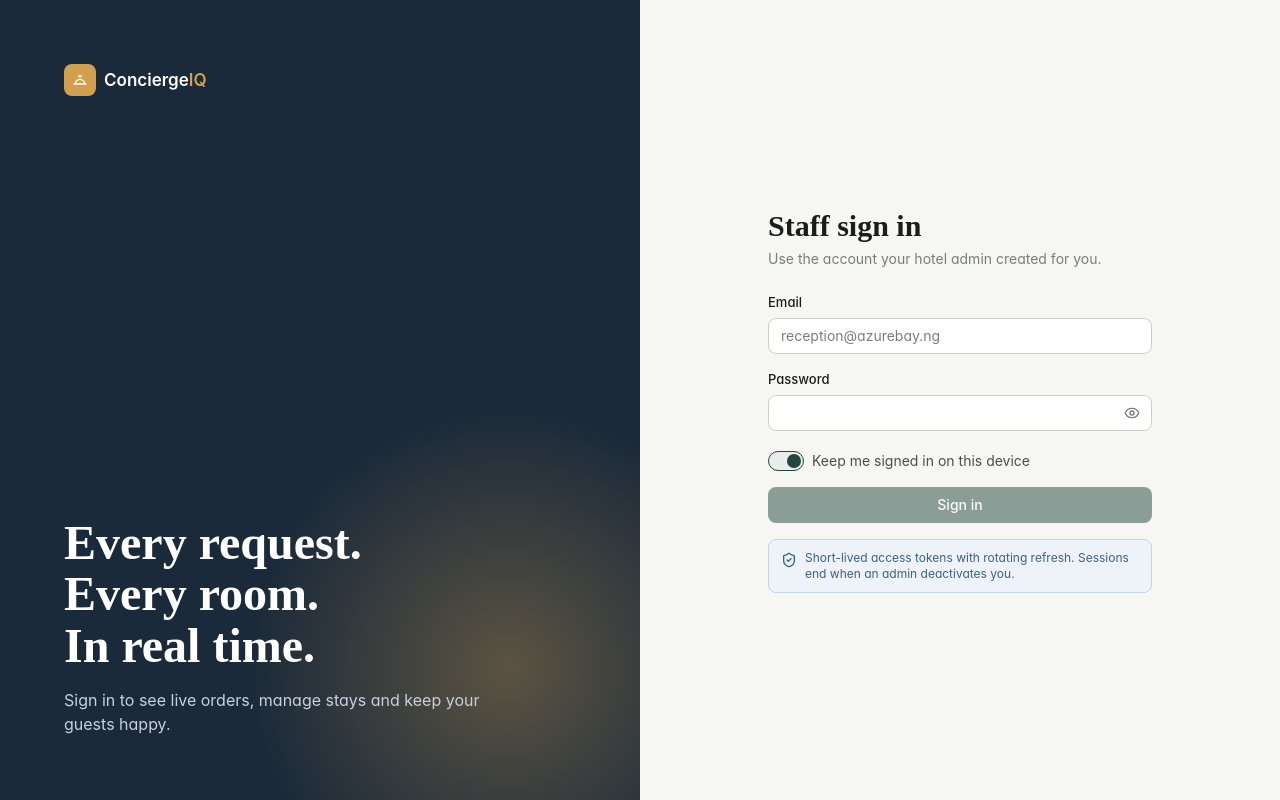
Test: "Keep me signed in" toggle › does NOT write the refresh token to localStorage when the toggle is switched off
Expected: the heading "Staff sign in" is shown, [768,209,921,242]
Click the switch named "Keep me signed in on this device". click: (786, 461)
box: [768,451,804,471]
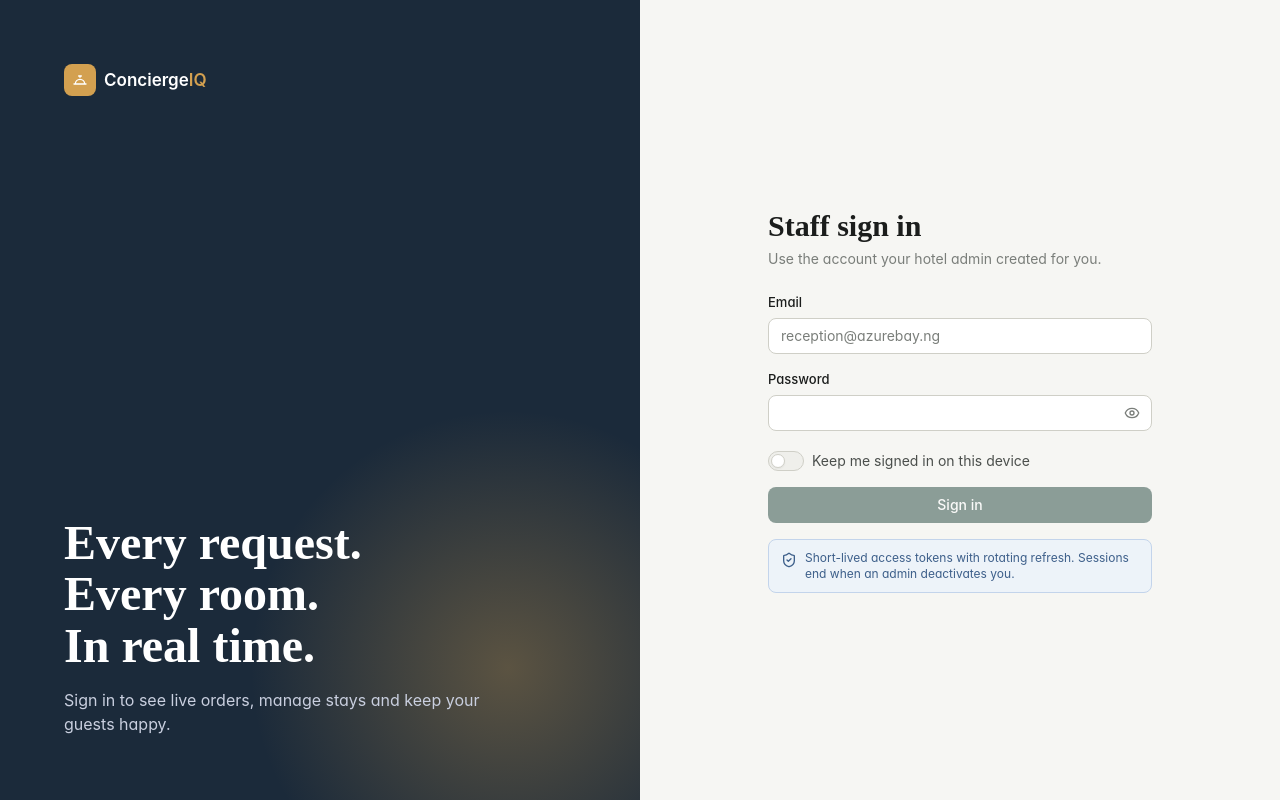
Type "amaka@azurebay.test" into the field labelled "Email". click: (960, 336)
box: [768,318,1152,354]
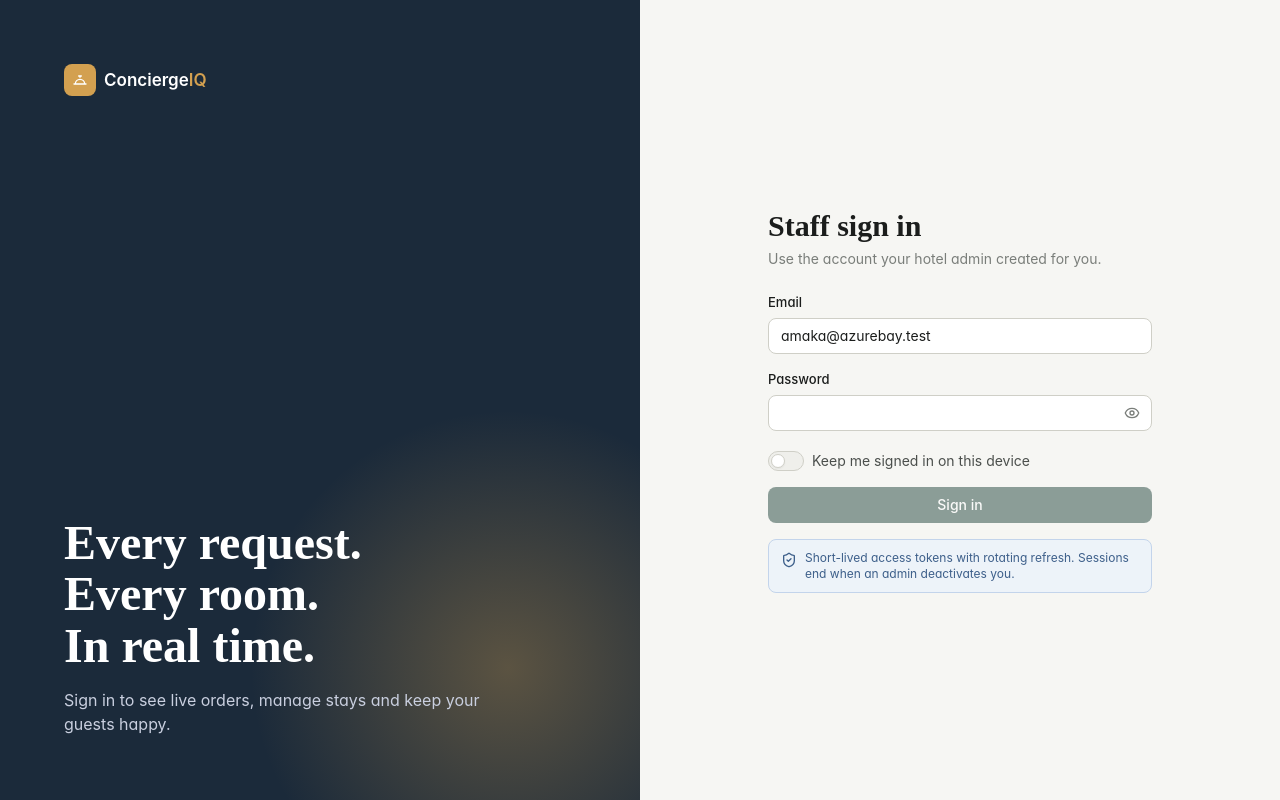
Type "ChangeMe123!" into the password field labelled "Password". click: (960, 413)
box: [768,395,1152,431]
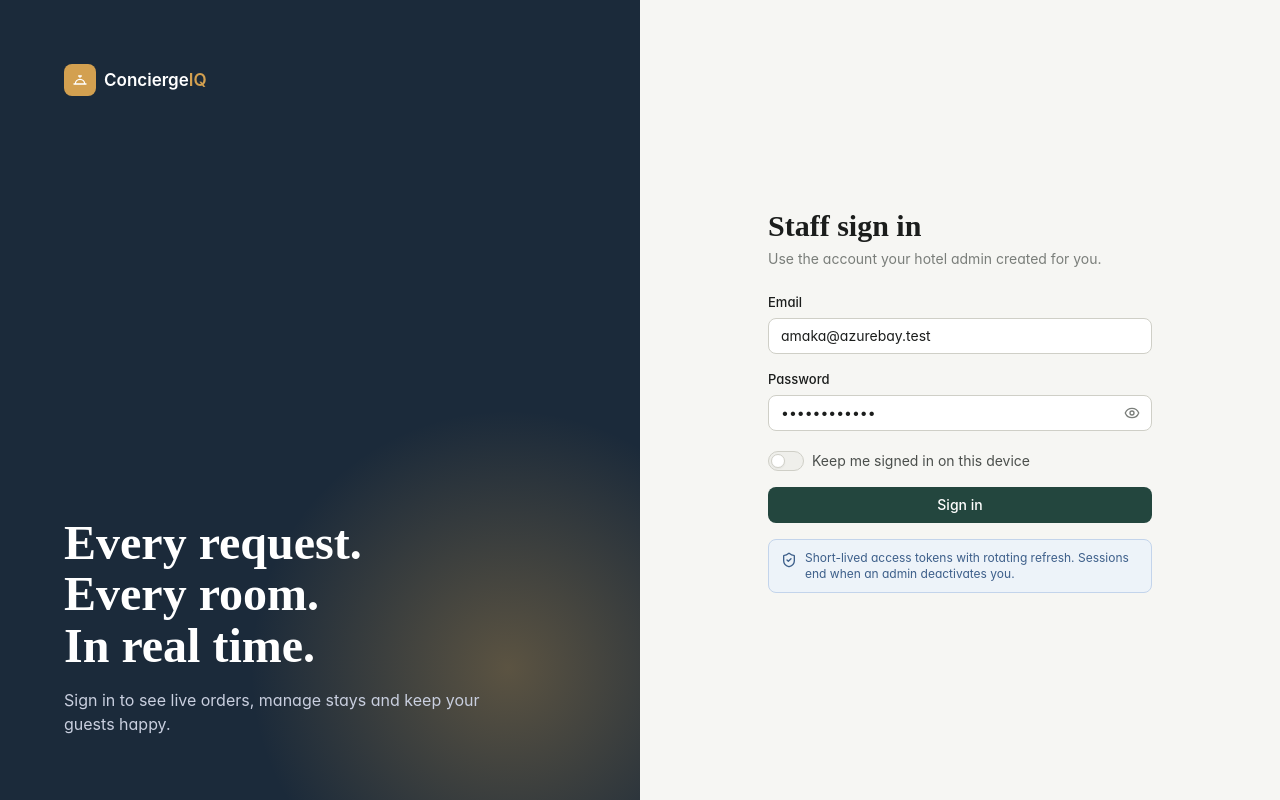
Click the button "Sign in". click: (960, 505)
box: [768,487,1152,523]
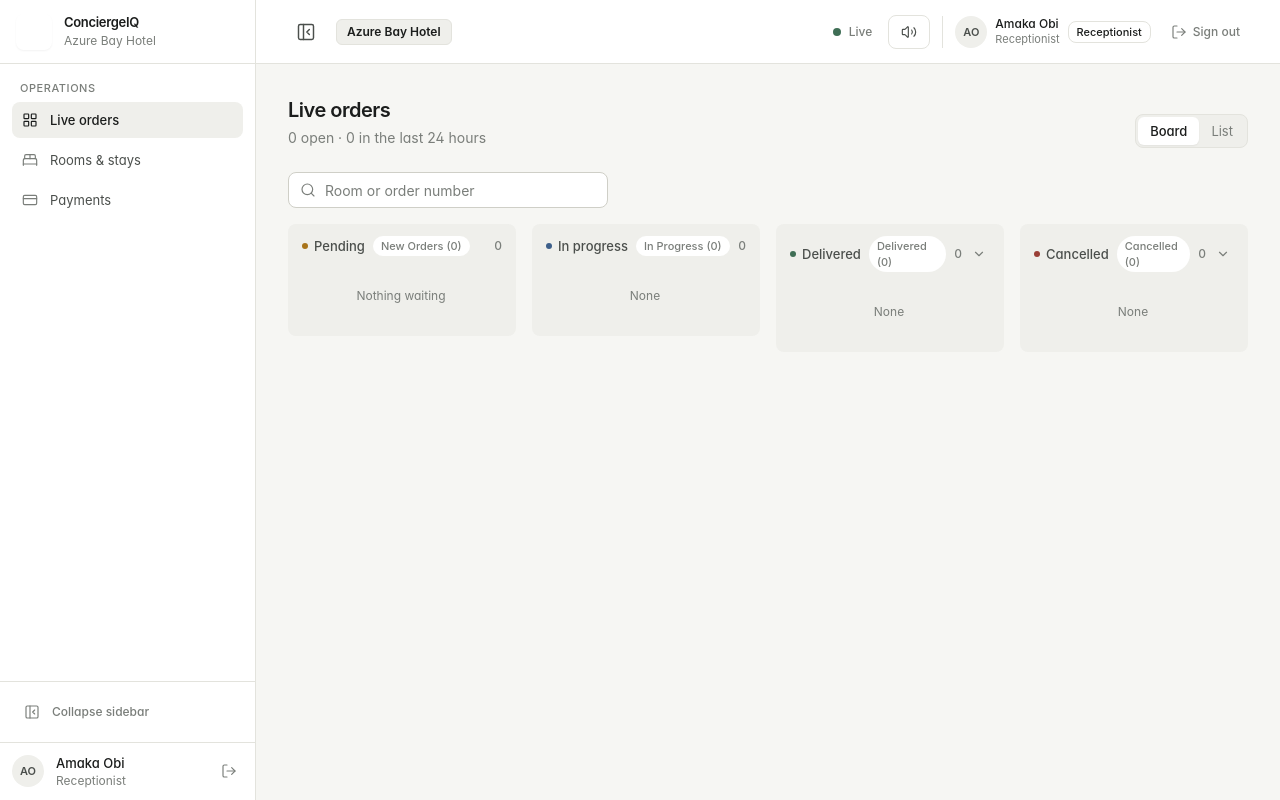
Now the heading "Live orders" is shown, box [288,98,390,122]
